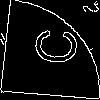C: (25, 25, 79, 67)
